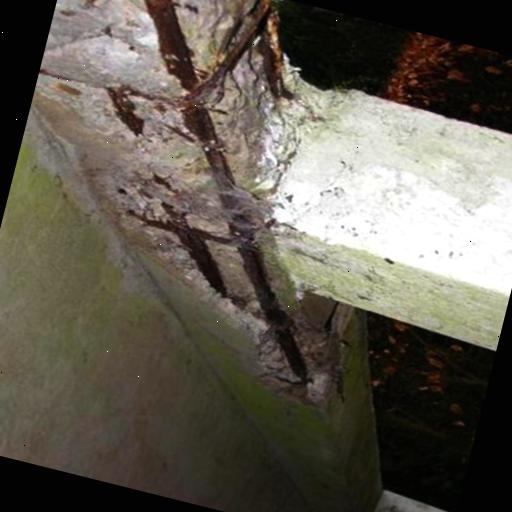spalling: (30, 0, 334, 391)
